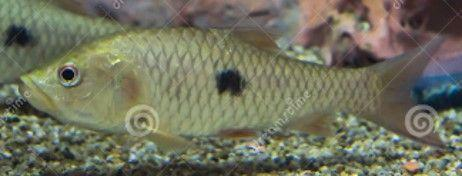Black Spotted Barb: (25, 24, 451, 162)
